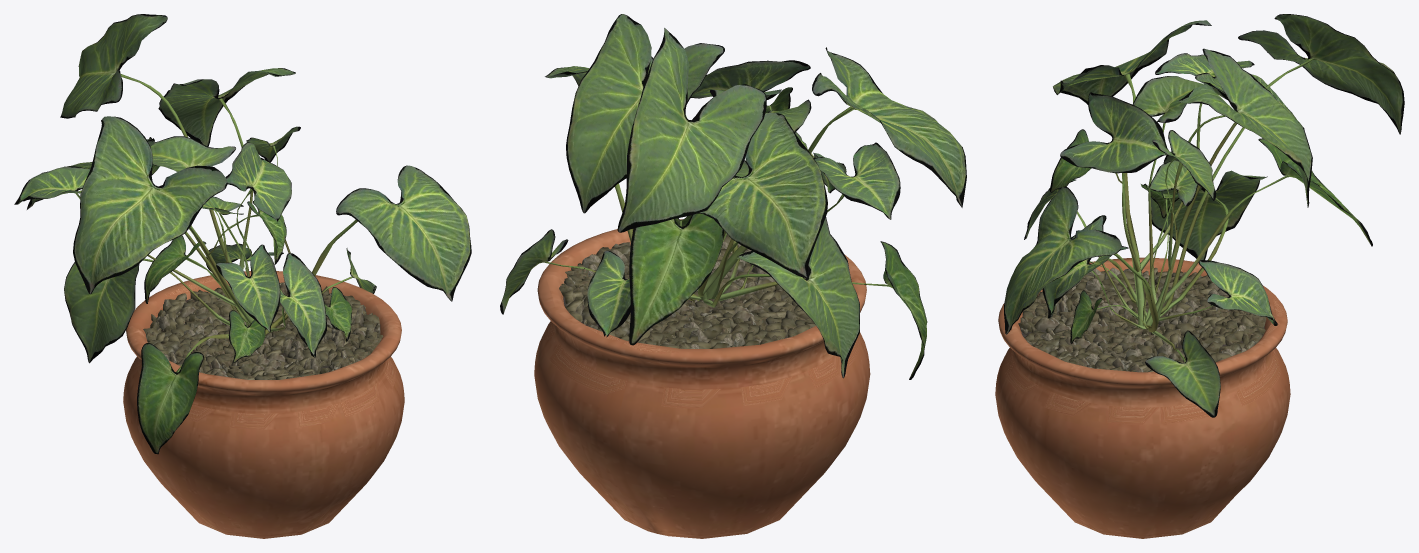
The model's file is plant.glb.
The picture shows the model from 3 angles, left to right: view 1: azimuth 30°, elevation 25°; view 2: azimuth 150°, elevation 25°; view 3: azimuth 270°, elevation 25°; orthographic projection. The views are drawn at different scales.
Visible parts, largest first — view 1: potted_plant_02_leaves, potted_plant_02_pot; view 2: potted_plant_02_leaves, potted_plant_02_pot; view 3: potted_plant_02_pot, potted_plant_02_leaves.
Part boxes in pixels (x1,y1,x2,y2): potted_plant_02_leaves: [14, 14, 471, 454]; potted_plant_02_pot: [123, 271, 404, 538]; potted_plant_02_leaves: [500, 14, 966, 379]; potted_plant_02_pot: [534, 219, 870, 538]; potted_plant_02_pot: [995, 257, 1290, 538]; potted_plant_02_leaves: [1004, 14, 1404, 417].
Bounding box in the file's own units: 0.7012 × 0.8412 × 0.6574.
Materials: 2 (2 with a texture image).
